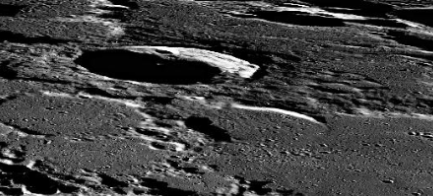crater: (27, 18, 350, 136)
